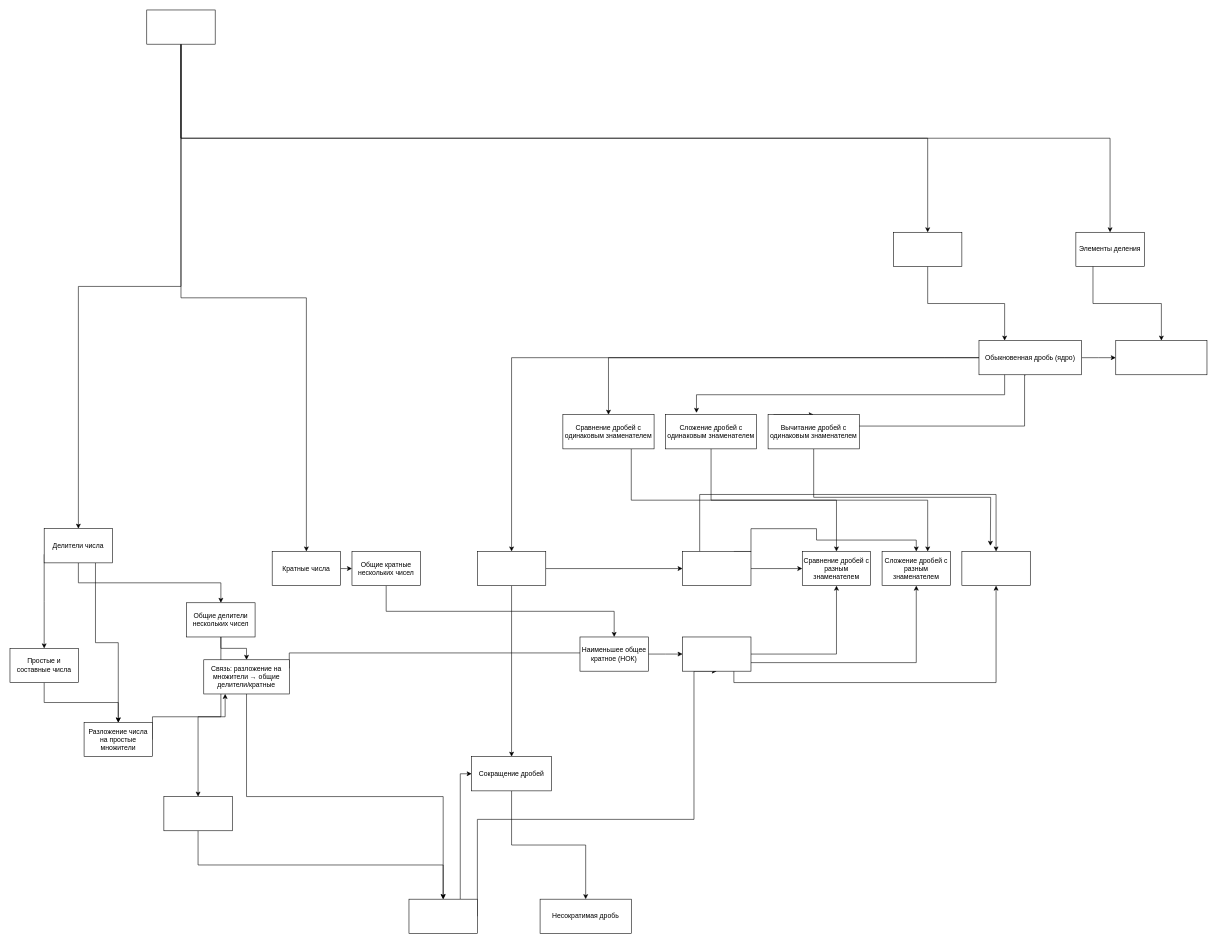
The diagram is 1217 pixels wide and 943 high, and some of its shapes have lost their labels. Here are the shapes that lost their labels. From the top down, the centre of each, then its label:
At point 180,26: "Действие деления (без остатка) для целых предметов".
At point 927,249: "Доли: деление ОДНОЙ вещи на равные части".
At point 1161,357: "Дробь как деление: соответствие a/b и a : b".
At point 511,568: "Основное свойство дроби".
At point 716,568: "Приведение дроби к другому знаменателю".
At point 995,568: "Вычитание дробей с разным знаменателем".
At point 716,653: "Важные свойства НОК".
At point 197,813: "Наибольший общий делитель (НОД)".
At point 442,916: "Важные свойства НОД".
